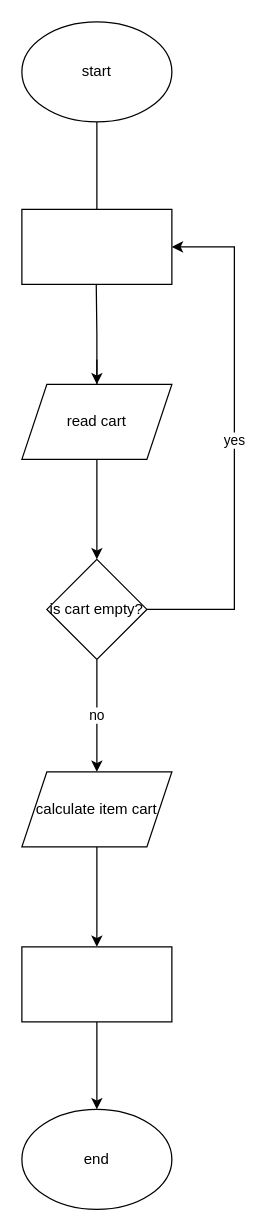
Some shapes in this 266 by 1231 pixel diagram are drawn without their labels. Here are the shapes that lost their labels. From the top down, the box of each, then its label:
(21, 208, 172, 284): input cart
(21, 946, 172, 1022): print total
